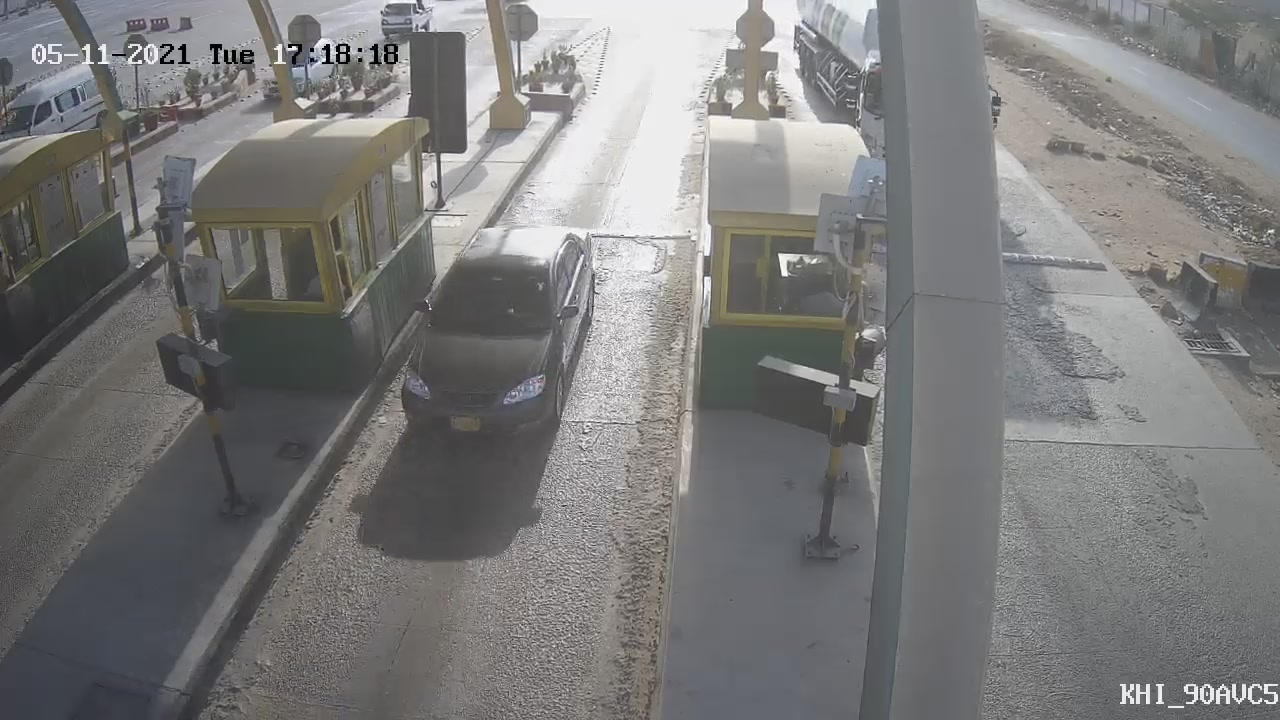F1: (369, 212, 616, 461)
